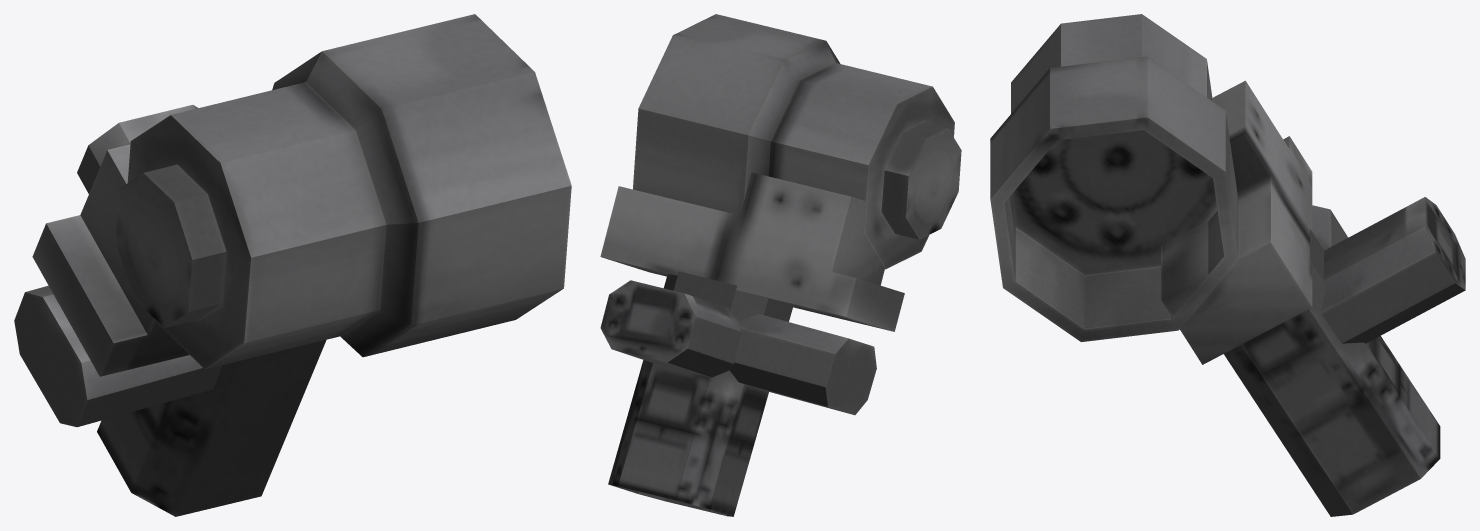
The model's file is r_clav.dae.
The picture shows the model from 3 angles, left to right: view 1: azimuth 30°, elevation 25°; view 2: azimuth 150°, elevation 25°; view 3: azimuth 270°, elevation 25°; orthographic projection. The views are drawn at different scales.
Visible parts, largest first — view 1: drc_r_clav; view 2: drc_r_clav; view 3: drc_r_clav.
Boxes of the visible parts, x1,y1,x2,y2 form: drc_r_clav: (14,14,571,516); drc_r_clav: (600,14,961,516); drc_r_clav: (990,14,1465,516).
Size of the model in its own units: 0.116 by 0.1715 by 0.1751.
